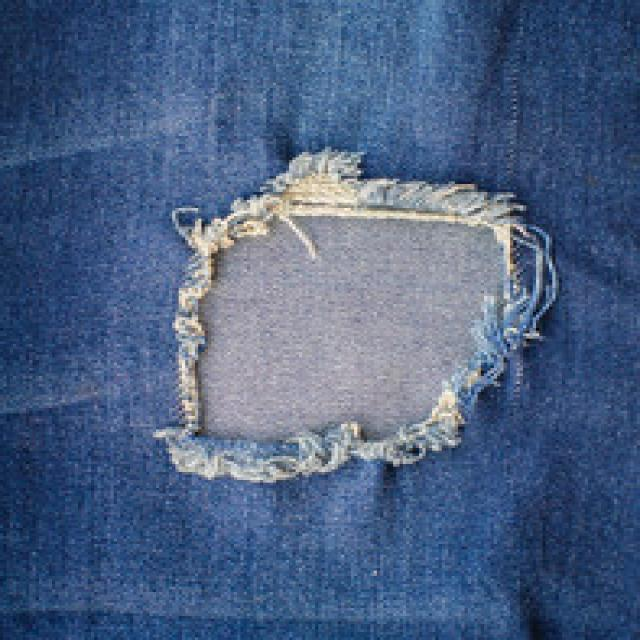Hole: (157, 150, 559, 484)
